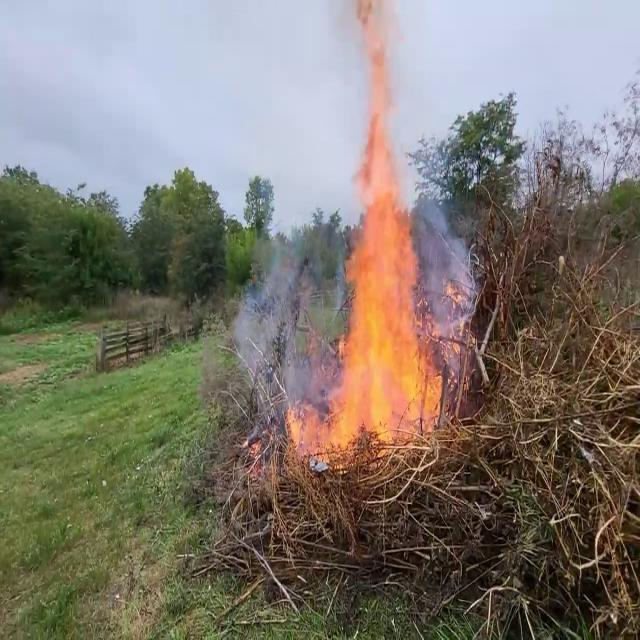Fire: (324, 111, 446, 445)
Smoke: (339, 0, 408, 157)
